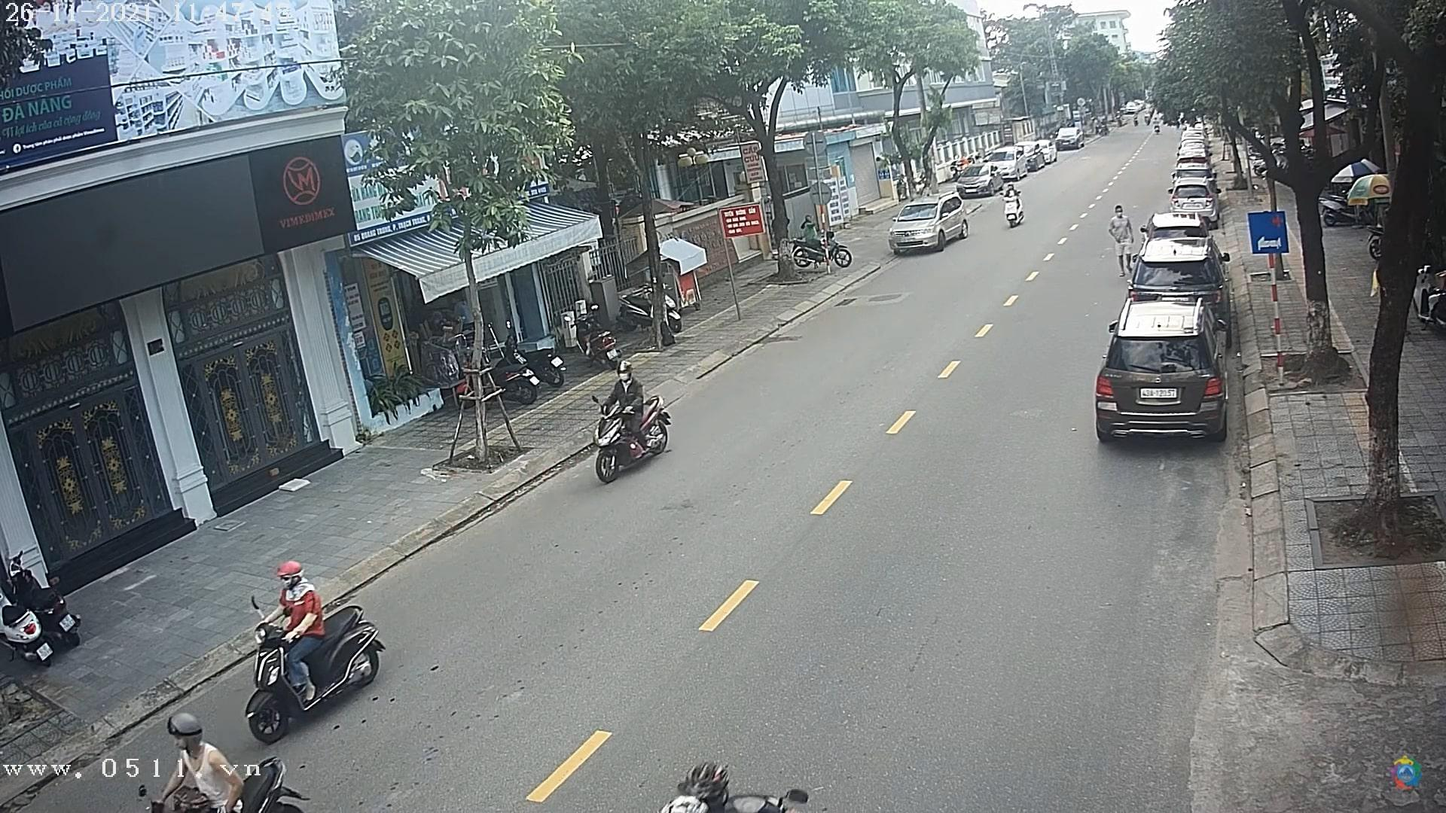car: (1096, 303, 1227, 444), (1129, 233, 1229, 303), (886, 196, 976, 254), (958, 160, 1006, 196), (1167, 186, 1213, 212), (1057, 126, 1086, 149)
motorbike: (247, 610, 386, 738), (596, 397, 667, 484), (1000, 194, 1026, 228)
